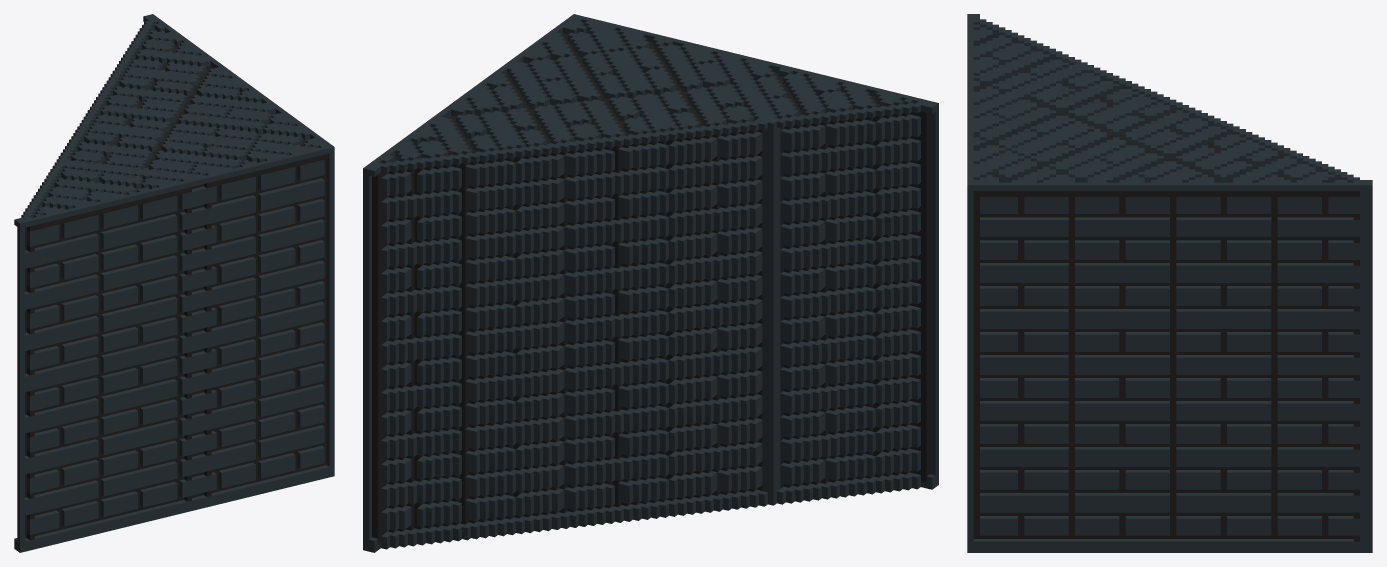
File: half_brick_cube.obj
3 renders of one model, left to right at view 1: azimuth 30°, elevation 25°; view 2: azimuth 150°, elevation 25°; view 3: azimuth 270°, elevation 25°, orthographic. The views are drawn at different scales.
Size of the model in its own units: 6.4 by 6.4 by 6.4.
1 material, 1 textured.
